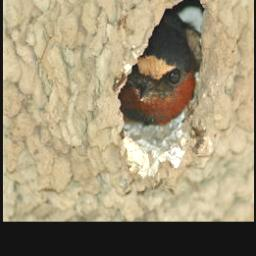Swallow: (118, 11, 197, 126)
